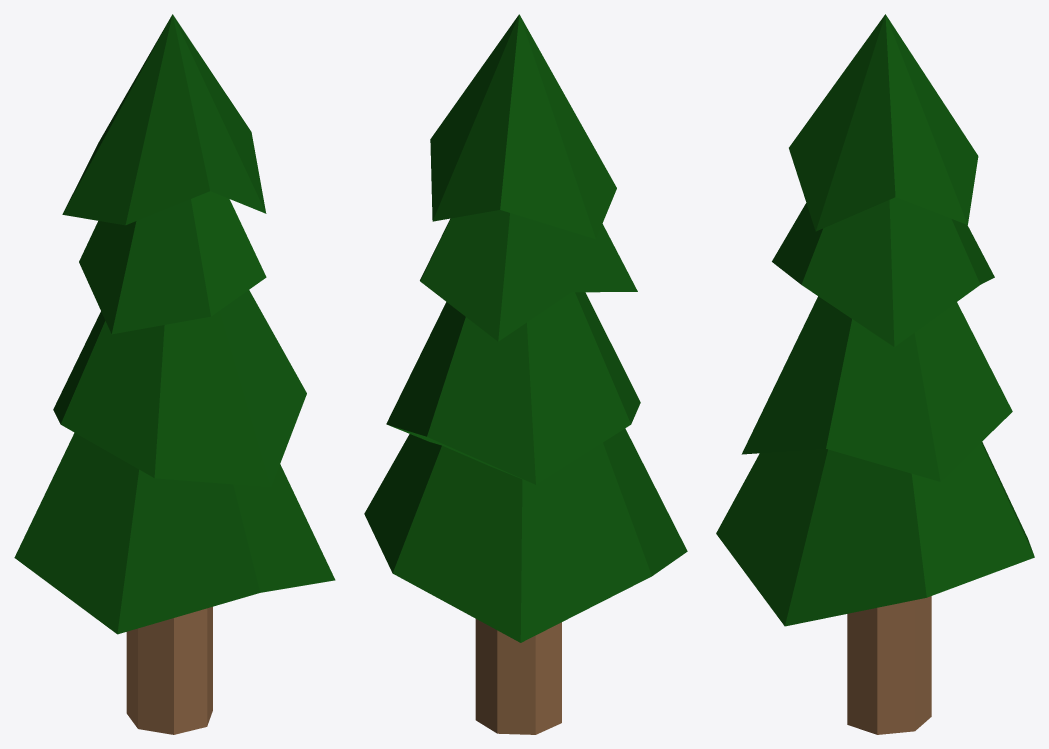
File: Fir_1.fbx
3 renders of one model, left to right at view 1: azimuth 30°, elevation 25°; view 2: azimuth 150°, elevation 25°; view 3: azimuth 270°, elevation 25°, orthographic.
Parts seen in each view (by area): view 1: Fir_mesh; view 2: Fir_mesh; view 3: Fir_mesh.
Part boxes in pixels (x1,y1,x2,y2): Fir_mesh: (14, 14, 335, 734); Fir_mesh: (364, 14, 687, 734); Fir_mesh: (716, 14, 1034, 734).
Size of the model in its own units: 261 by 626 by 257.
